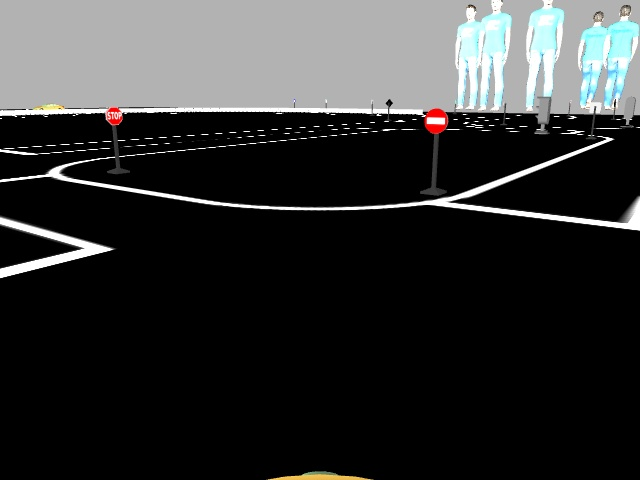NoEntry: (422, 109, 451, 132)
Stop: (102, 108, 123, 125)
